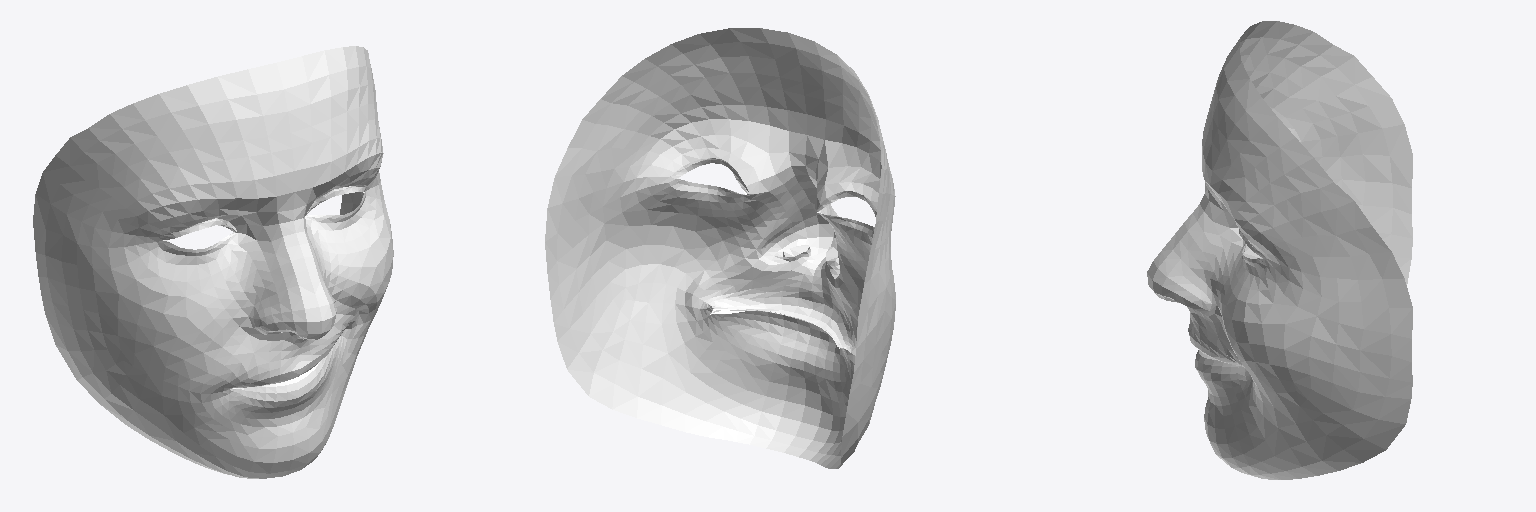
File: mouthSmile_L.obj
The picture shows the model from 3 angles: view 1: azimuth 30°, elevation 25°; view 2: azimuth 150°, elevation 25°; view 3: azimuth 270°, elevation 25°; orthographic projection.
Visible parts, largest first — view 1: default; view 2: default; view 3: default.
Part boxes in pixels (x1,y1,x2,y2): default: (33, 46, 393, 478); default: (545, 28, 895, 468); default: (1147, 21, 1412, 479).
Bounding box in the file's own units: 0.1447 × 0.1822 × 0.1055.